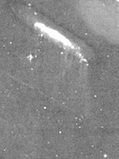Halpha: (56, 45, 98, 138)
